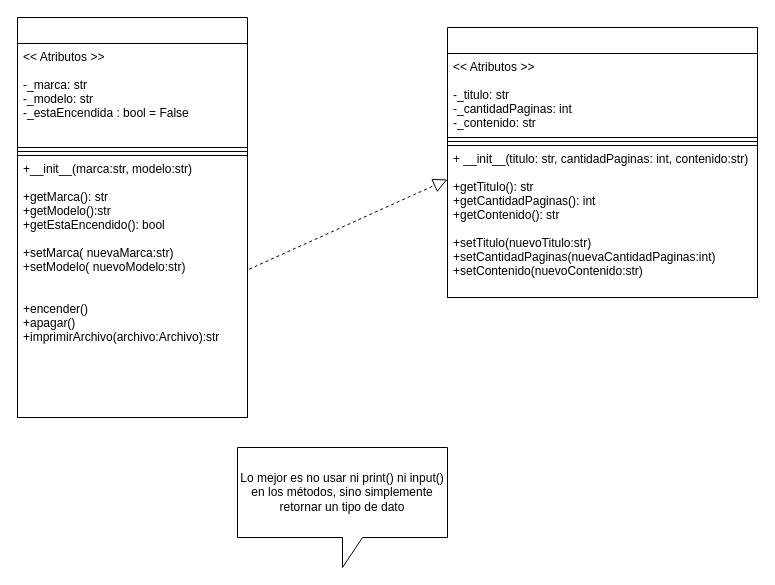
This 775x585 diagram has some shape labels left out. The shapes that lost their labels are listed below. From the top down, each one's box as (x1, y1, x2, y2) in pixels, then its label:
(446, 26, 758, 298): Archivo
(16, 16, 248, 418): Impresora
